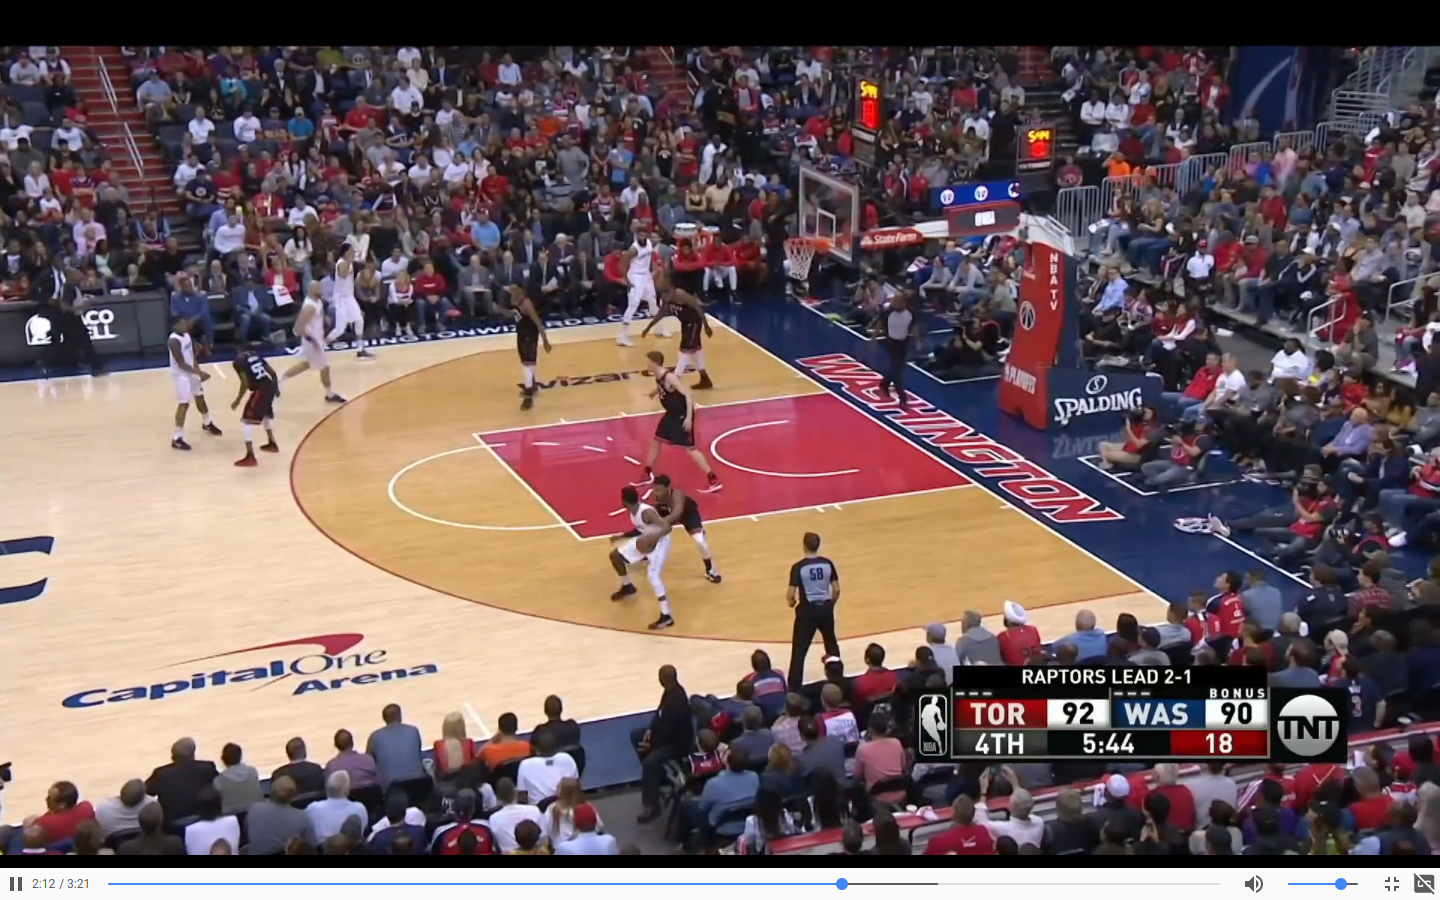basketball: (636, 531, 661, 557)
basketball player: (625, 348, 727, 497), (642, 468, 732, 596), (604, 485, 672, 628), (493, 279, 555, 411), (224, 334, 282, 471), (653, 269, 712, 396), (164, 316, 216, 457), (290, 272, 338, 422), (618, 223, 664, 345), (330, 242, 373, 363)
referee: (775, 525, 847, 692), (45, 263, 115, 385), (868, 289, 921, 409)
